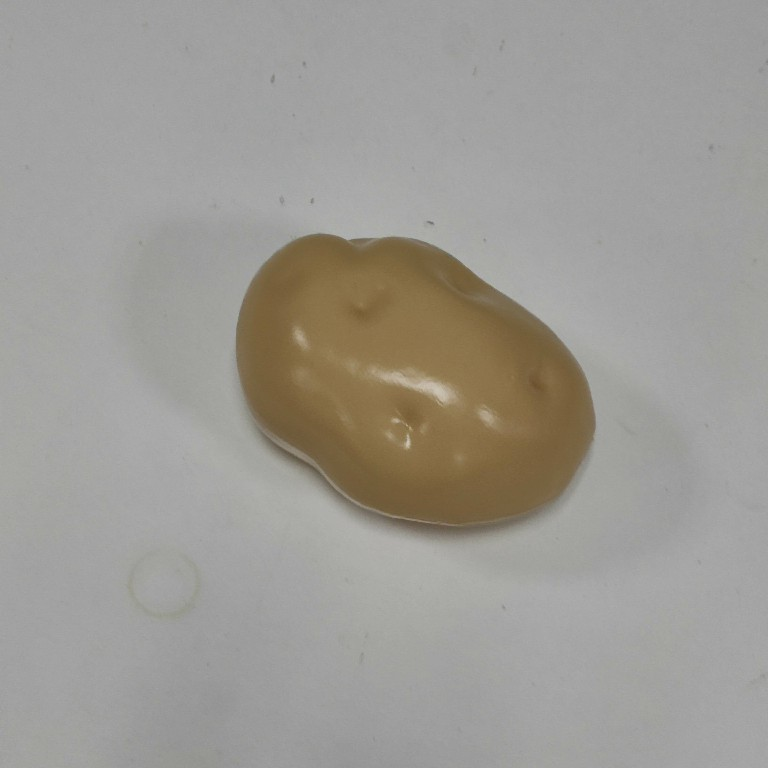fruit_potato: (227, 228, 602, 535)
